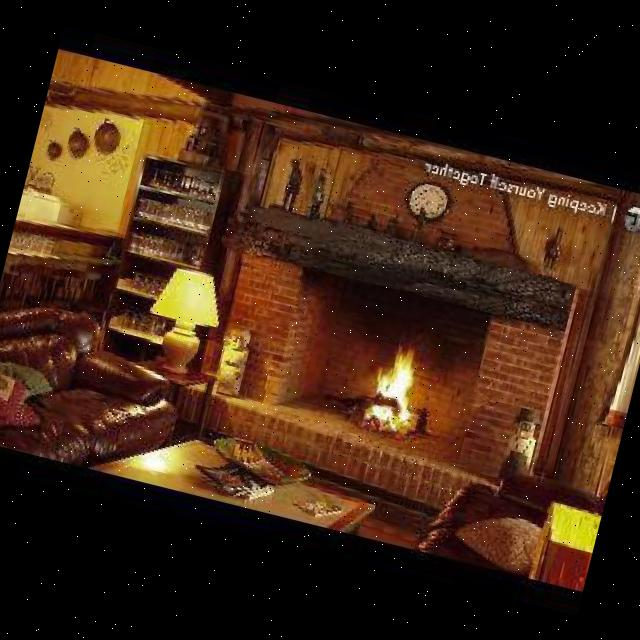fire: (348, 334, 430, 448)
